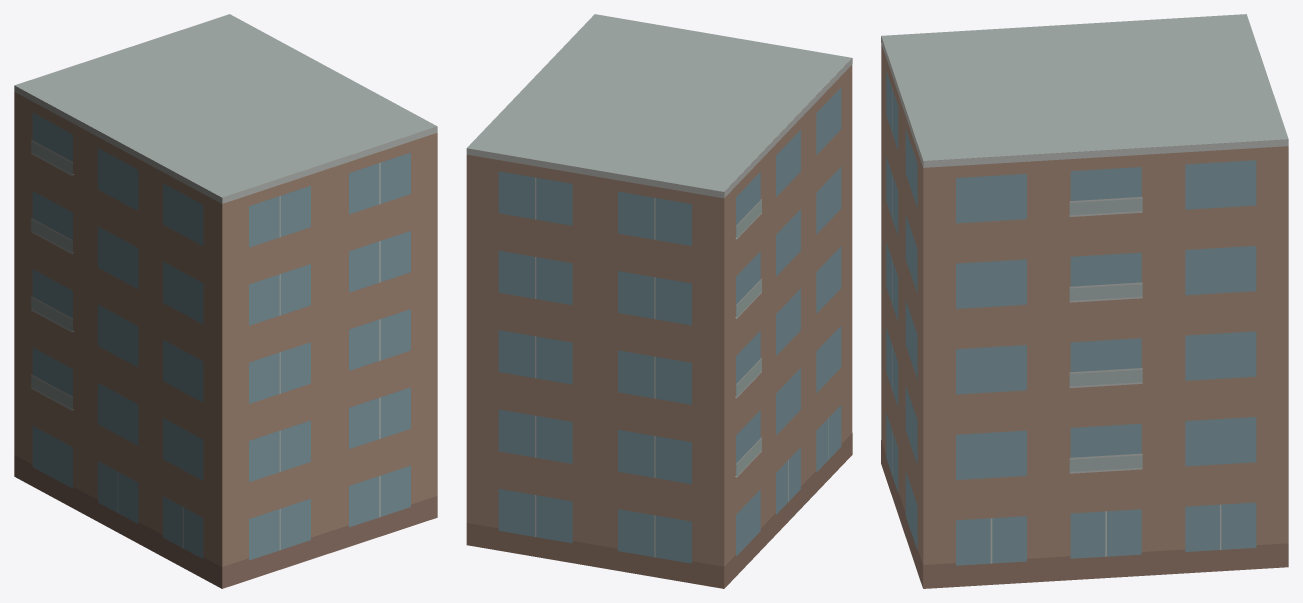
File: survey-upis-32627938.glb
3 renders of one model, left to right at view 1: azimuth 30°, elevation 25°; view 2: azimuth 150°, elevation 25°; view 3: azimuth 270°, elevation 25°, orthographic. The views are drawn at different scales.
Visible parts, largest first — view 1: survey-upis-32627938.tmp; view 2: survey-upis-32627938.tmp; view 3: survey-upis-32627938.tmp.
Boxes of the visible parts, x1,y1,x2,y2 form: survey-upis-32627938.tmp: (14, 14, 437, 588); survey-upis-32627938.tmp: (466, 14, 852, 588); survey-upis-32627938.tmp: (881, 14, 1288, 588).
Bounding box in the file's own units: 11.21 × 15.2 × 13.13.
